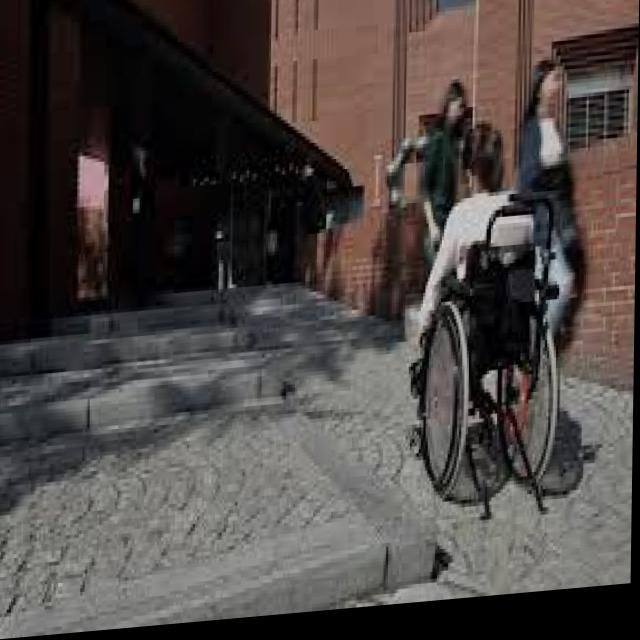wheelchair: (408, 126, 565, 513)
